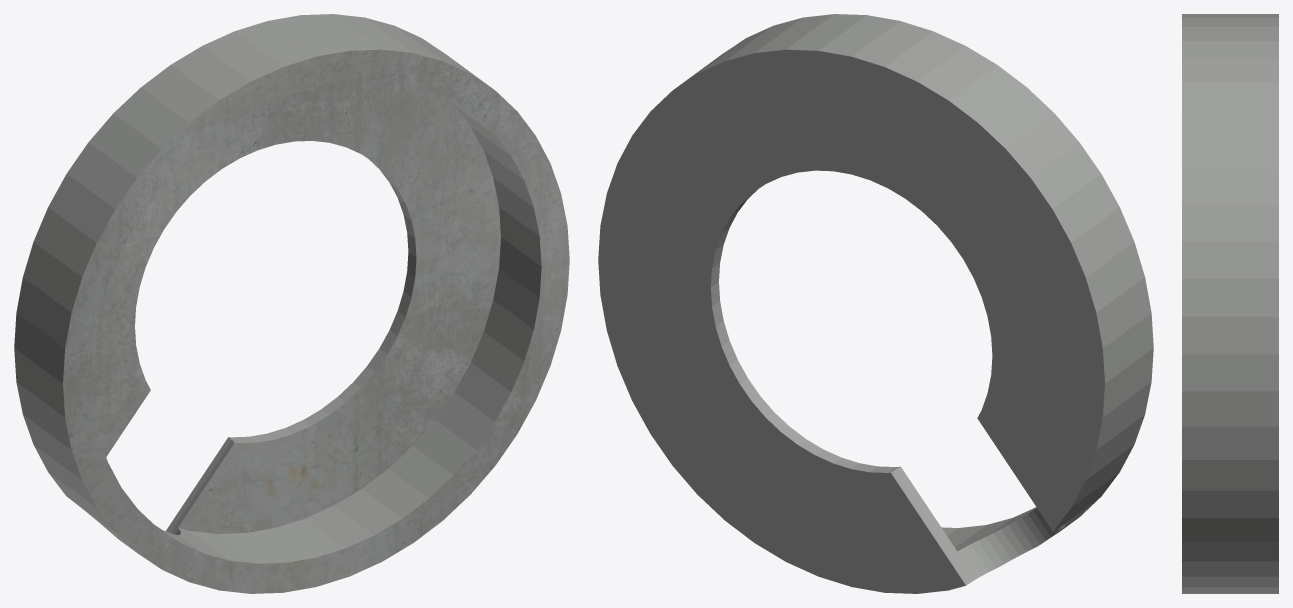
File: pool_015.obj
The picture shows the model from 3 angles, left to right: view 1: azimuth 30°, elevation 25°; view 2: azimuth 150°, elevation 25°; view 3: azimuth 270°, elevation 25°; orthographic projection.
Size of the model in its own units: 18 by 18 by 3.
